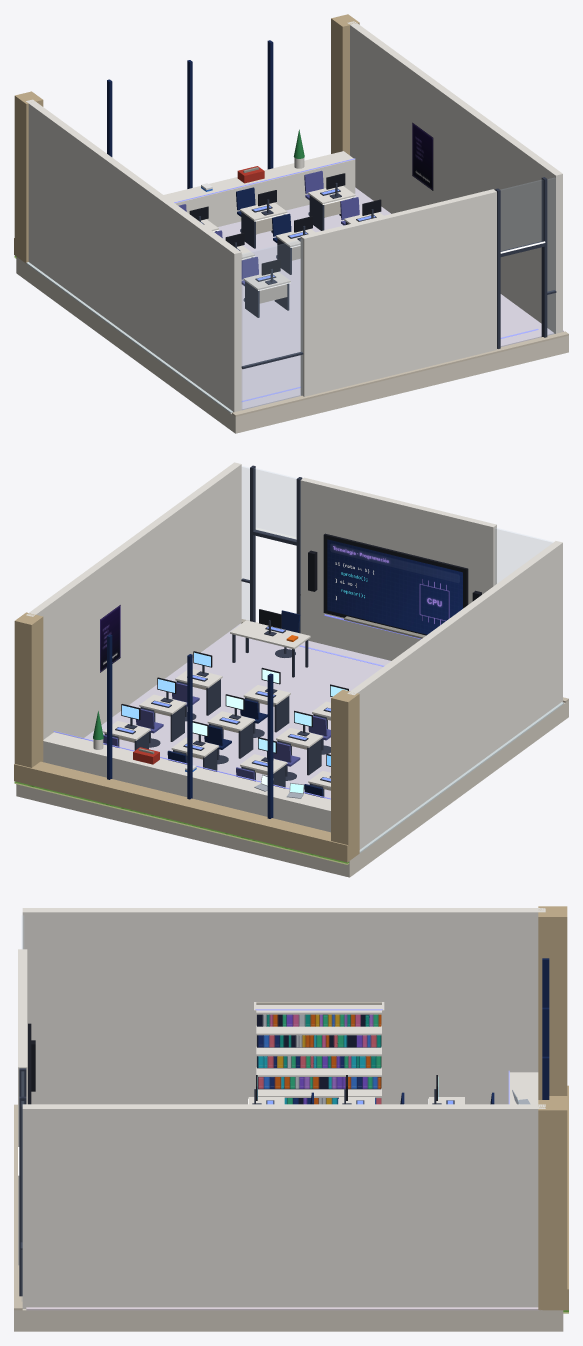
File: aula.glb
The picture shows the model from 3 angles, top to bottom: view 1: azimuth 30°, elevation 25°; view 2: azimuth 150°, elevation 25°; view 3: azimuth 270°, elevation 25°; orthographic projection. The views are drawn at different scales.
Parts seen in each view (by area): view 1: mate-f7f4ee, vidrio-cfe6ff, mate-e8e2d6, mate-ebe7f5, brillo-f7f4ee, mate-cdb894, metal-3a4256, metal-14285a, brillo-1a1d26, mate-ddd3c2, brillo-5b5fa8, MeshStandardMaterial-tex (+3 smaller); view 2: mate-f7f4ee, brillo-f7f4ee, mate-ebe7f5, MeshBasicMaterial-tex, mate-cdb894, brillo-cdb894, mate-e8e2d6, metal-3a4256, vidrio-cfe6ff, brillo-1a1d26, metal-14285a, brillo-5b5fa8 (+7 smaller); view 3: mate-f7f4ee, mate-e8e2d6, mate-cdb894, MeshStandardMaterial-tex, mate-f2e7f2, brillo-f7f4ee, metal-3a4256, metal-14285a, mate-ddd3c2, brillo-1a1d26, brillo-cdb894.
Boxes of the visible parts, box(x1,y1,x2,y2) form: mate-f7f4ee: box(26, 21, 562, 412); vidrio-cfe6ff: box(242, 178, 555, 409); mate-e8e2d6: box(16, 257, 568, 433); mate-ebe7f5: box(217, 187, 554, 410); brillo-f7f4ee: box(164, 151, 383, 290); mate-cdb894: box(14, 14, 359, 263); metal-3a4256: box(198, 177, 556, 368); metal-14285a: box(107, 40, 273, 188); brillo-1a1d26: box(189, 173, 381, 275); mate-ddd3c2: box(232, 331, 568, 416); brillo-5b5fa8: box(178, 170, 359, 286); MeshStandardMaterial-tex: box(412, 122, 433, 190); mate-f7f4ee: box(26, 462, 562, 849); brillo-f7f4ee: box(43, 620, 330, 832); mate-ebe7f5: box(82, 623, 390, 799); MeshBasicMaterial-tex: box(327, 539, 462, 634); mate-cdb894: box(14, 612, 359, 861); brillo-cdb894: box(14, 761, 356, 862); mate-e8e2d6: box(16, 700, 568, 877); metal-3a4256: box(104, 465, 330, 797); vidrio-cfe6ff: box(242, 466, 552, 621); brillo-1a1d26: box(121, 533, 481, 766); metal-14285a: box(107, 634, 273, 818); brillo-5b5fa8: box(103, 682, 330, 781); mate-f7f4ee: box(18, 908, 545, 1308); mate-e8e2d6: box(14, 1309, 563, 1331); mate-cdb894: box(538, 906, 567, 1310); MeshStandardMaterial-tex: box(257, 1014, 381, 1104); mate-f2e7f2: box(26, 1307, 541, 1310); brillo-f7f4ee: box(248, 1072, 538, 1104); metal-3a4256: box(19, 1068, 441, 1296); metal-14285a: box(542, 958, 549, 1099); mate-ddd3c2: box(14, 1104, 22, 1310); brillo-1a1d26: box(28, 1023, 437, 1104); brillo-cdb894: box(545, 1085, 568, 1310).
Bounding box in the file's own units: 8.3 × 4.2 × 9.55.
Materials: 42 (4 with a texture image).
